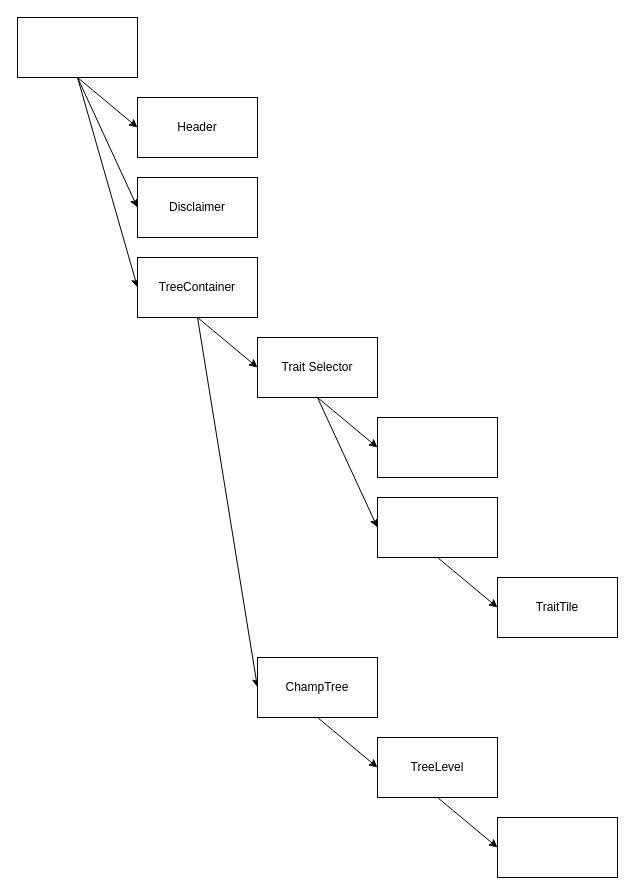
Some shapes in this 635 by 895 pixel diagram are drawn without their labels. The centre of each missing label's shape, as x and y in pixels:
ActiveFilters: (x=437, y=447)
App: (x=77, y=47)
ChampHex: (x=557, y=847)
TraitFilters: (x=437, y=527)
